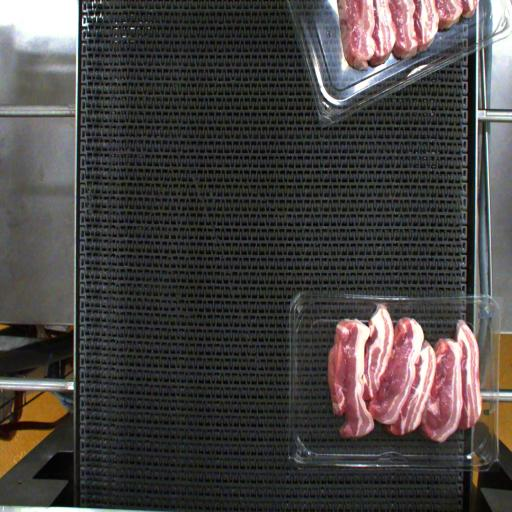packaging-error: (372, 294, 400, 318)
